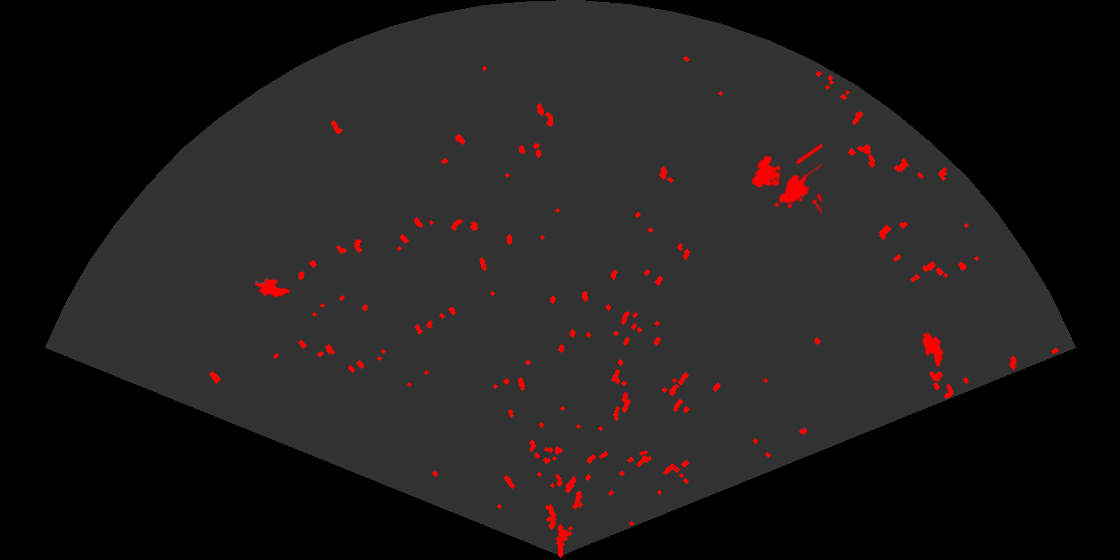AUV: (920, 331, 945, 369), (253, 277, 292, 299)
cage: (750, 141, 822, 216)
